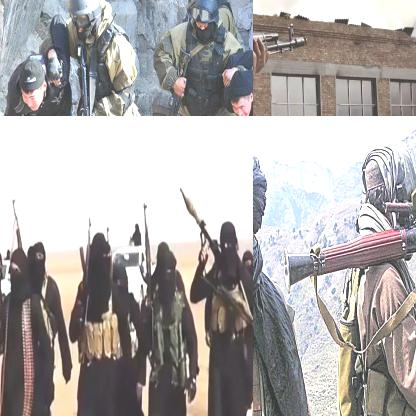rifle: (283, 197, 415, 297), (253, 21, 308, 115), (200, 273, 252, 339), (178, 184, 221, 257), (149, 46, 191, 115), (76, 215, 95, 360), (74, 38, 101, 115), (138, 202, 155, 299), (7, 194, 26, 252)
